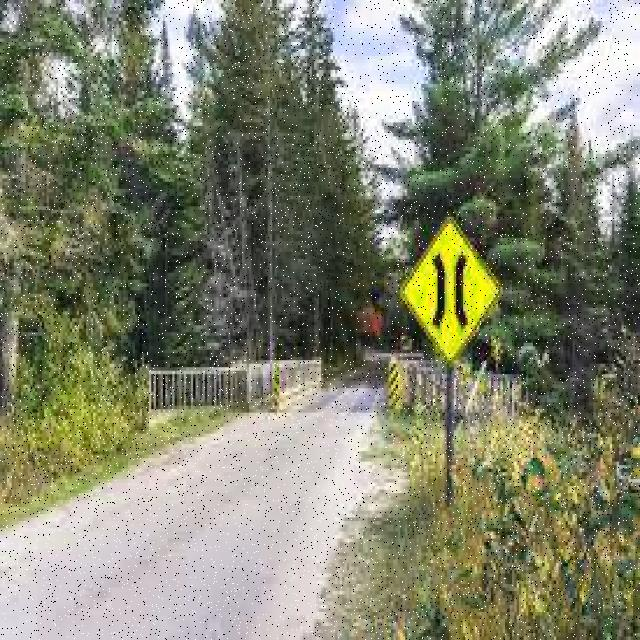Narrow_Bridge: (399, 216, 502, 362)
